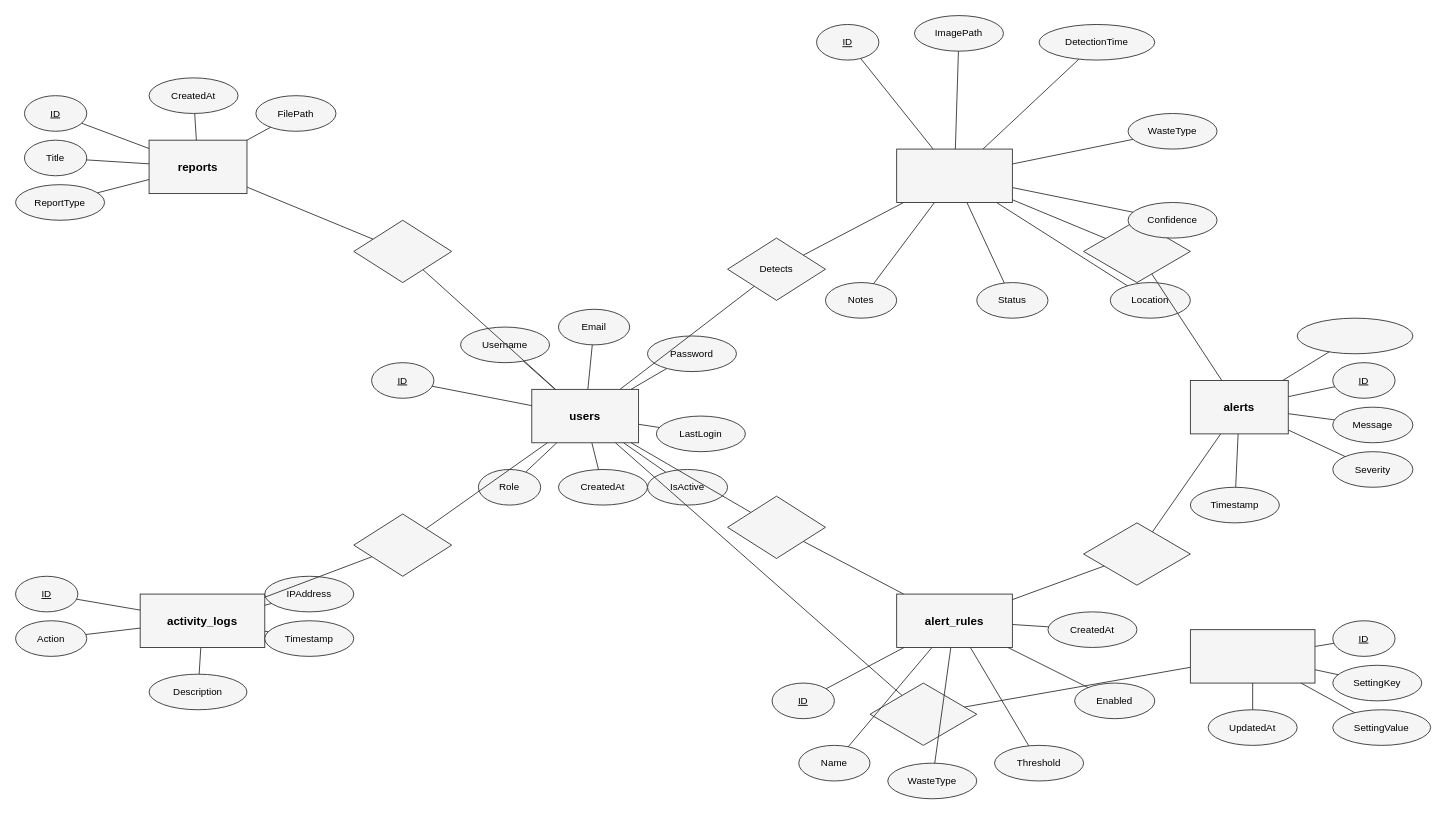
Image size: 1446x814. Some labels were removed from this diagram. The shapes that lost their labels are listed below. From the top down, each one's box as (x1, y1, x2, y2) in pixels, then its label:
(896, 148, 1012, 202): detections
(353, 219, 452, 283): Generates
(1083, 219, 1190, 283): Triggers
(1296, 317, 1413, 354): Acknowledged
(353, 513, 452, 576): Records
(727, 495, 825, 558): Creates
(1083, 522, 1190, 585): Fires
(1189, 629, 1315, 683): app_settings
(869, 682, 977, 745): Configures
